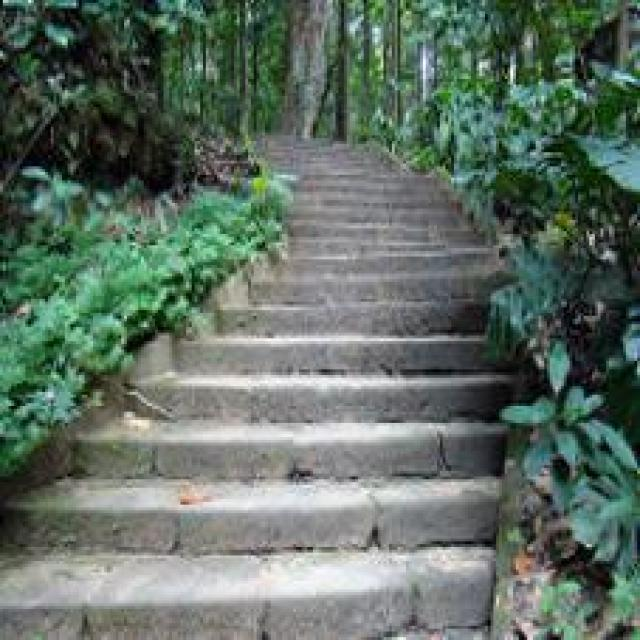upstair: (27, 365, 478, 602)
